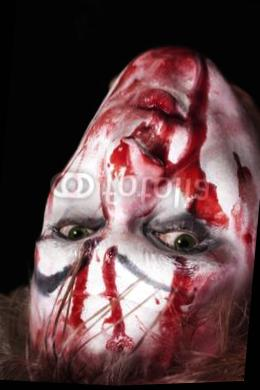Fire: (36, 47, 260, 369)
